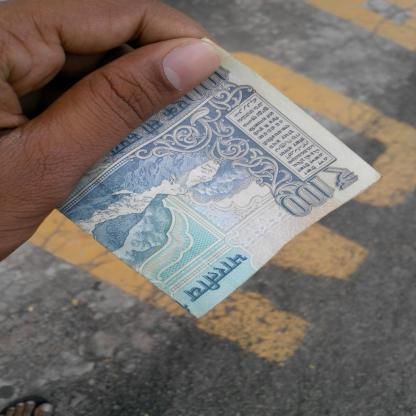Old100Back: (54, 35, 385, 320)
